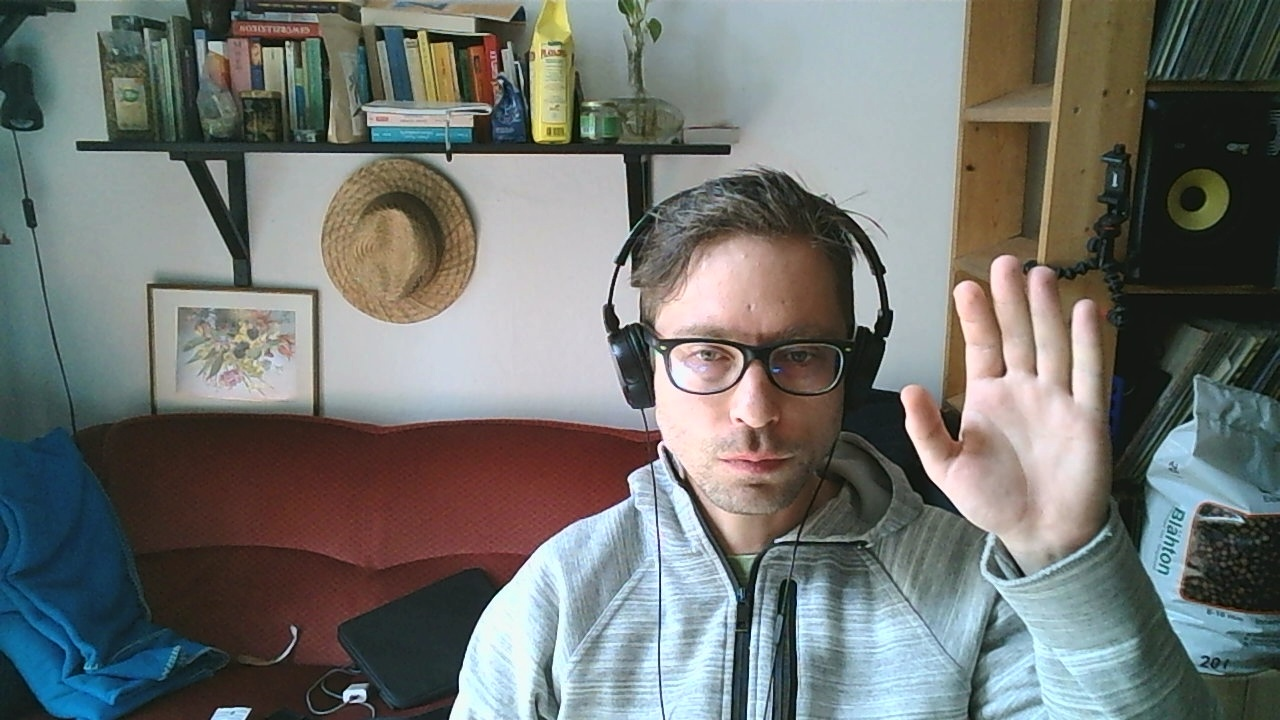hello: (897, 252, 1109, 550)
